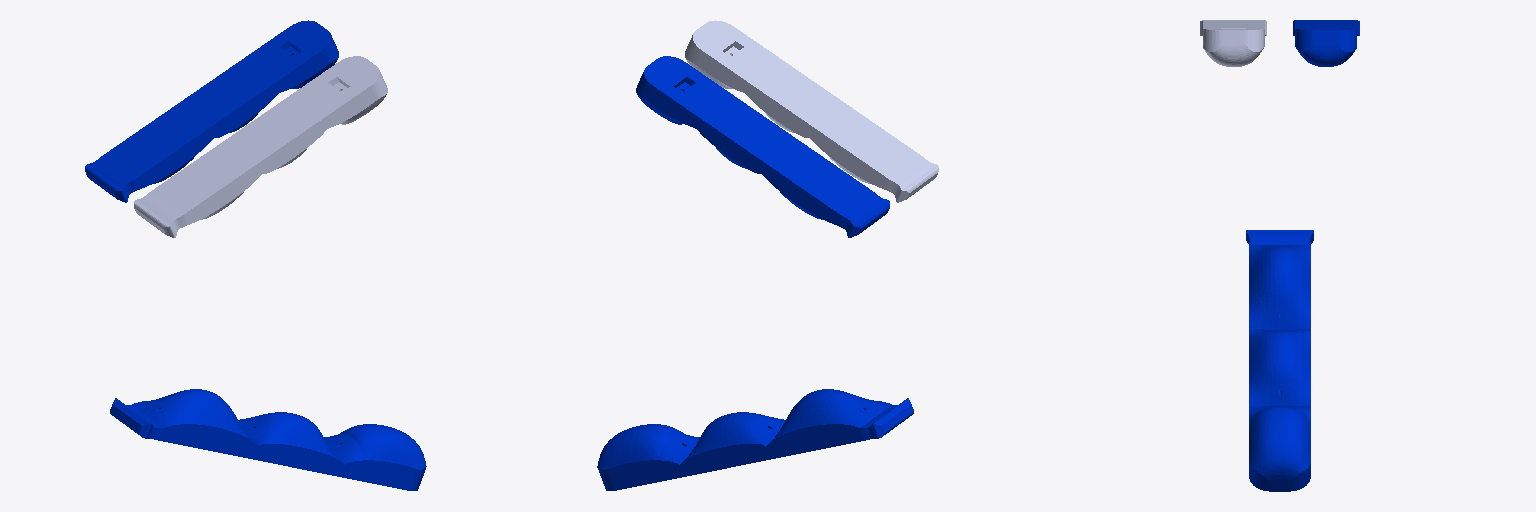
robot.urdf — BellPepperGripperPrototype:
<?xml version="1.0" encoding="utf-8"?>
<!-- This URDF was automatically created by SolidWorks to URDF Exporter! Originally created by [author] ([email redacted]) 
     Commit Version: 1.6.0-4-g7f85cfe  Build Version: 1.6.7995.38578
     For more information, please see http://wiki.ros.org/sw_urdf_exporter -->
<robot
  name="BellPepperGripperPrototype">
  <link
    name="base_link">
    <inertial>
      <origin
        xyz="0.0382187941649636 -4.67758207583543E-05 0.00194670750128977"
        rpy="0 0 0" />
      <mass
        value="0.286294902802573" />
      <inertia
        ixx="0.000230469639985534"
        ixy="6.08302856604759E-07"
        ixz="-7.76037366358719E-07"
        iyy="0.000196661779165421"
        iyz="2.30456427950788E-07"
        izz="0.000100288227833932" />
    </inertial>
    <visual>
      <origin
        xyz="0 0 0"
        rpy="0 0 0" />
      <geometry>
        <mesh
          filename="package://BellPepperGripperPrototype/meshes/base_link.STL" />
      </geometry>
      <material
        name="">
        <color
          rgba="0.792156862745098 0.819607843137255 0.933333333333333 1" />
      </material>
    </visual>
    <collision>
      <origin
        xyz="0 0 0"
        rpy="0 0 0" />
      <geometry>
        <mesh
          filename="package://BellPepperGripperPrototype/meshes/base_link.STL" />
      </geometry>
    </collision>
  </link>
  <link
    name="Thumb">
    <inertial>
      <origin
        xyz="-2.64551064879312E-07 0.0431879980905915 0.0438871427274411"
        rpy="0 0 0" />
      <mass
        value="0.0370194227589813" />
      <inertia
        ixx="5.40094413368386E-06"
        ixy="-1.03302568989847E-11"
        ixz="1.69596194565803E-11"
        iyy="4.3500971701134E-06"
        iyz="-1.99605532479014E-06"
        izz="4.12557919638255E-06" />
    </inertial>
    <visual>
      <origin
        xyz="0 0 0"
        rpy="0 0 0" />
      <geometry>
        <mesh
          filename="package://BellPepperGripperPrototype/meshes/Thumb.STL" />
      </geometry>
      <material
        name="">
        <color
          rgba="0.00784313725490196 0.23921568627451 0.823529411764706 1" />
      </material>
    </visual>
    <collision>
      <origin
        xyz="0 0 0"
        rpy="0 0 0" />
      <geometry>
        <mesh
          filename="package://BellPepperGripperPrototype/meshes/Thumb.STL" />
      </geometry>
    </collision>
  </link>
  <joint
    name="Thumb"
    type="revolute">
    <origin
      xyz="0.088956 0 -0.045195"
      rpy="-1.1689 0 -1.5708" />
    <parent
      link="base_link" />
    <child
      link="Thumb" />
    <axis
      xyz="1 0 0" />
    <limit
      lower="0"
      upper="0"
      effort="0"
      velocity="0" />
  </joint>
  <link
    name="Fing 1">
    <inertial>
      <origin
        xyz="4.6590814473807E-08 0.000385198595051359 0.0458794252192024"
        rpy="0 0 0" />
      <mass
        value="0.0238720784561246" />
      <inertia
        ixx="2.32868503869285E-06"
        ixy="-3.85777518069234E-12"
        ixz="1.86881337810048E-12"
        iyy="3.01797378334759E-06"
        iyz="-9.0603735980651E-08"
        izz="1.28080641427765E-06" />
    </inertial>
    <visual>
      <origin
        xyz="0 0 0"
        rpy="0 0 0" />
      <geometry>
        <mesh
          filename="package://BellPepperGripperPrototype/meshes/Fing 1.STL" />
      </geometry>
      <material
        name="">
        <color
          rgba="0.792156862745098 0.819607843137255 0.933333333333333 1" />
      </material>
    </visual>
    <collision>
      <origin
        xyz="0 0 0"
        rpy="0 0 0" />
      <geometry>
        <mesh
          filename="package://BellPepperGripperPrototype/meshes/Fing 1.STL" />
      </geometry>
    </collision>
  </link>
  <joint
    name="Fing 1"
    type="revolute">
    <origin
      xyz="0.088956 -0.018 0.045195"
      rpy="-1.1689 0 -1.5708" />
    <parent
      link="base_link" />
    <child
      link="Fing 1" />
    <axis
      xyz="-1 0 0" />
    <limit
      lower="0"
      upper="0"
      effort="0"
      velocity="0" />
  </joint>
  <link
    name="Fing 2">
    <inertial>
      <origin
        xyz="4.70080086679286E-08 0.000385199132286324 0.0458794283108044"
        rpy="0 0 0" />
      <mass
        value="0.0238720806826081" />
      <inertia
        ixx="2.32868528008467E-06"
        ixy="-3.90958290109612E-12"
        ixz="1.84359392501011E-12"
        iyy="3.01797385390531E-06"
        iyz="-9.06036502744429E-08"
        izz="1.2808066616309E-06" />
    </inertial>
    <visual>
      <origin
        xyz="0 0 0"
        rpy="0 0 0" />
      <geometry>
        <mesh
          filename="package://BellPepperGripperPrototype/meshes/Fing 2.STL" />
      </geometry>
      <material
        name="">
        <color
          rgba="0.00784313725490196 0.23921568627451 0.823529411764706 1" />
      </material>
    </visual>
    <collision>
      <origin
        xyz="0 0 0"
        rpy="0 0 0" />
      <geometry>
        <mesh
          filename="package://BellPepperGripperPrototype/meshes/Fing 2.STL" />
      </geometry>
    </collision>
  </link>
  <joint
    name="Fing 2"
    type="revolute">
    <origin
      xyz="0.088956 0.018 0.045195"
      rpy="-1.1689 0 -1.5708" />
    <parent
      link="base_link" />
    <child
      link="Fing 2" />
    <axis
      xyz="1 0 0" />
    <limit
      lower="0"
      upper="0"
      effort="0"
      velocity="0" />
  </joint>
</robot>

--- Render facts (derived) ---
Views: 3 orthographic renders of the robot side by side, from view 1: azimuth 30°, elevation 25°; view 2: azimuth 150°, elevation 25°; view 3: azimuth 270°, elevation 25°.
Robot: BellPepperGripperPrototype — 4 links, 3 joints (3 revolute); root link base_link; default pose: all joints at 0.
Visible links, largest first — view 1: Thumb, Fing 1, Fing 2; view 2: Thumb, Fing 2, Fing 1; view 3: Thumb, Fing 1, Fing 2.
Link boxes in pixels (x1,y1,x2,y2): Thumb: (110,389,426,490); Fing 1: (134,56,387,237); Fing 2: (85,20,338,202); Thumb: (597,389,913,490); Fing 2: (636,56,889,237); Fing 1: (685,20,938,202); Thumb: (1246,230,1313,491); Fing 1: (1200,20,1266,66); Fing 2: (1293,20,1359,66).
Bounding box of the posed robot: 0.1257 × 0.062 × 0.1853 m (x, y, z).
3 mesh visuals loaded from 4 distinct referenced files (3 binary STL); not drawn: 1 (reference not matched to a file when rendering).